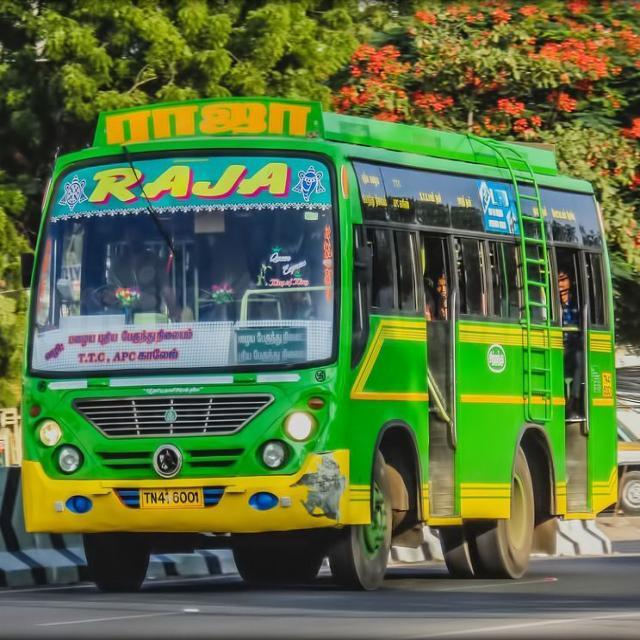Bus: (16, 97, 620, 589)
